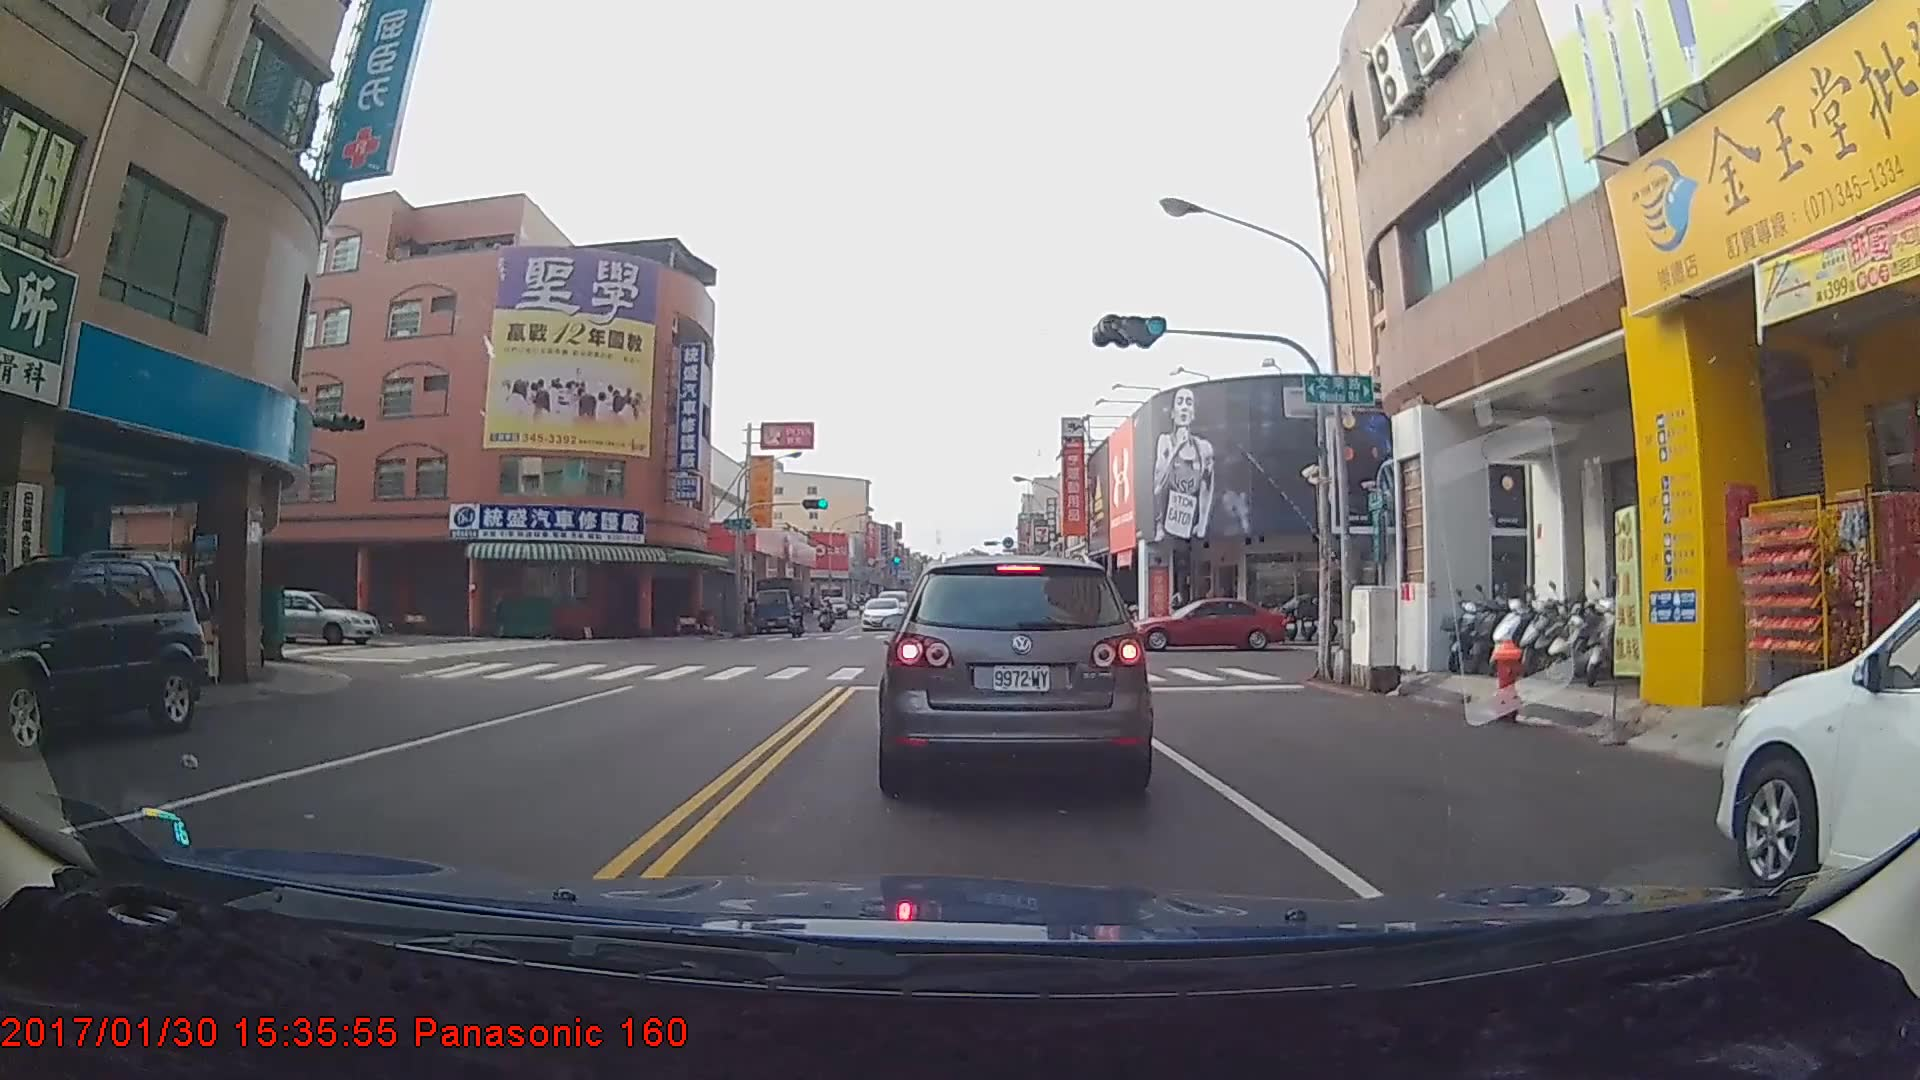rider: (782, 594, 812, 636), (819, 594, 842, 634)
vehicle: (1719, 535, 1920, 944), (883, 548, 1149, 794), (0, 549, 199, 750), (1127, 594, 1290, 649), (233, 584, 383, 641), (750, 575, 805, 633), (858, 593, 904, 630)
